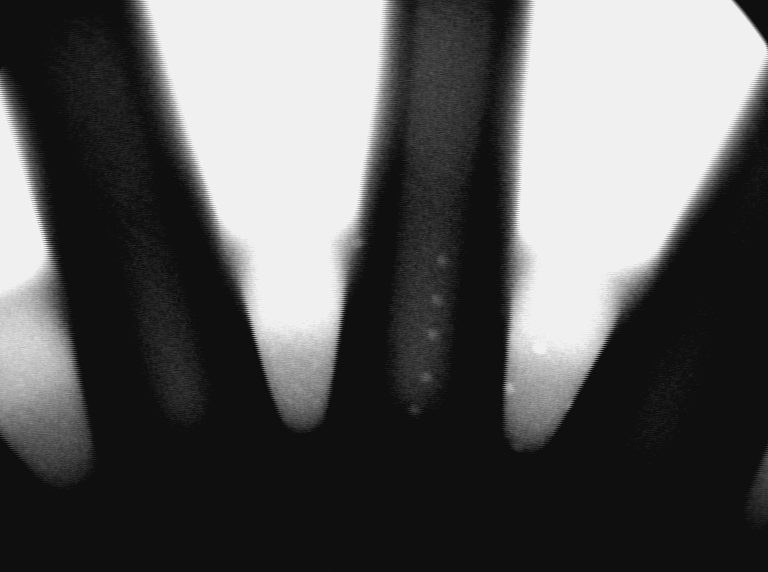defect: (347, 233, 366, 252)
